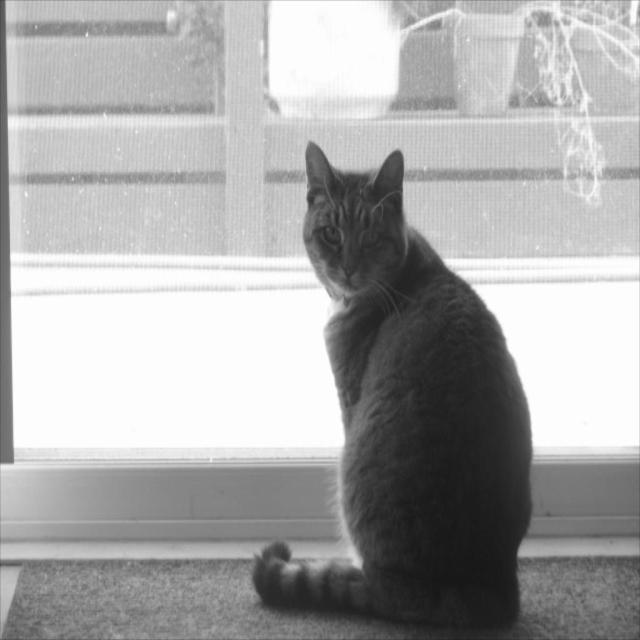Cat: (242, 137, 530, 628)
